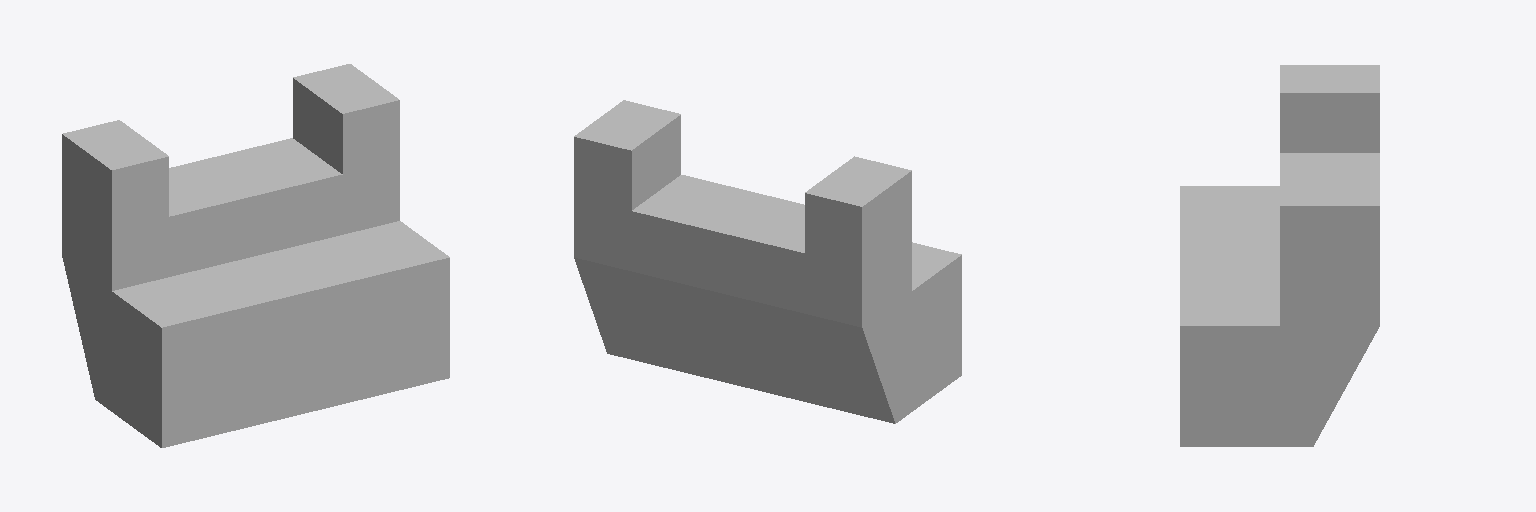
The model's file is battlement_half.obj.
The picture shows the model from 3 angles: view 1: azimuth 30°, elevation 25°; view 2: azimuth 150°, elevation 25°; view 3: azimuth 270°, elevation 25°; orthographic projection.
Parts seen in each view (by area): view 1: battlement_half; view 2: battlement_half; view 3: battlement_half.
Boxes of the visible parts, <box> form: battlement_half: <box>62,64,449,447</box>; battlement_half: <box>574,100,961,423</box>; battlement_half: <box>1180,65,1379,446</box>.
Size of the model in its own units: 0.5 by 0.4 by 0.3.